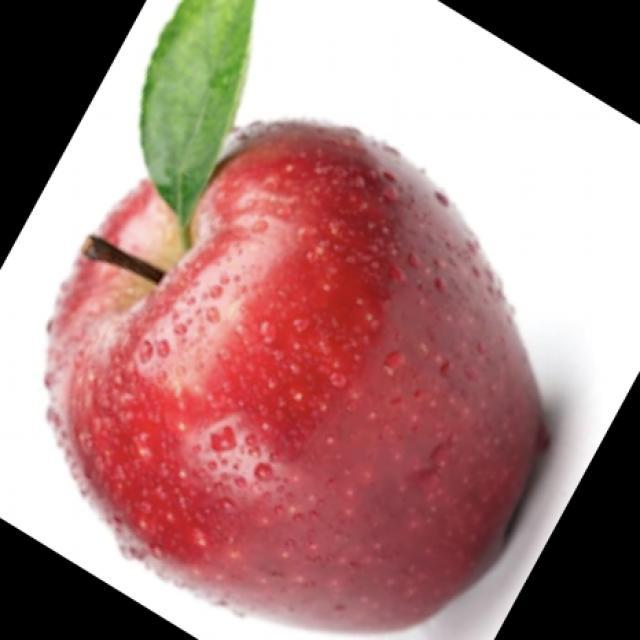Fresh Apple: (30, 138, 572, 622)
